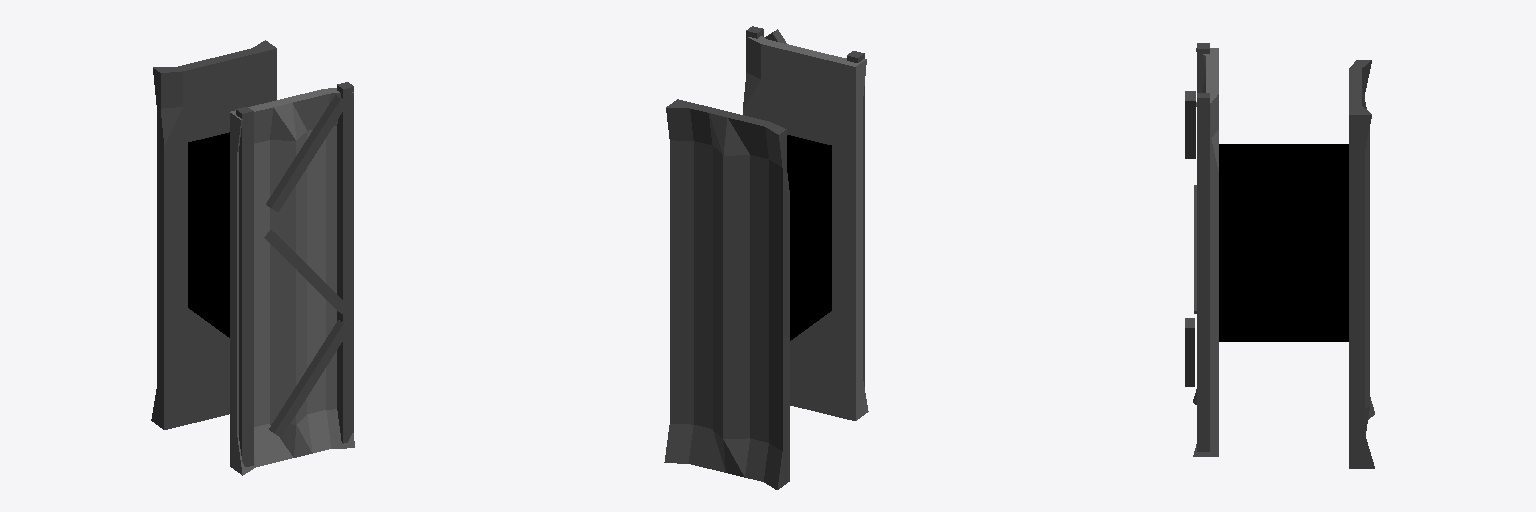
File: lowerleg.obj
3 views of the same model, side by side, from view 1: azimuth 30°, elevation 25°; view 2: azimuth 150°, elevation 25°; view 3: azimuth 270°, elevation 25° (orthographic).
Visible parts, largest first — view 1: Box002, Box001, Box003, Box008, Box007, Box006, Box005, Box004; view 2: Box001, Box002, Box003, Box007; view 3: Box003, Box001, Box008, Box002, Box005, Box006.
Boxes of the visible parts, x1,y1,x2,y2 form: Box002: [230, 88, 354, 475]; Box001: [151, 40, 276, 429]; Box003: [188, 132, 229, 337]; Box008: [337, 82, 353, 443]; Box007: [236, 107, 253, 466]; Box006: [269, 320, 350, 437]; Box005: [266, 95, 347, 211]; Box004: [264, 230, 348, 313]; Box001: [664, 99, 789, 489]; Box002: [743, 36, 868, 420]; Box003: [787, 135, 831, 340]; Box007: [847, 51, 864, 386]; Box003: [1219, 144, 1348, 341]; Box001: [1349, 60, 1374, 468]; Box008: [1197, 93, 1209, 451]; Box002: [1193, 48, 1218, 456]; Box005: [1185, 91, 1195, 158]; Box006: [1185, 318, 1194, 386].
Bounding box in the file's own units: 0.505 × 1.57 × 0.7323.